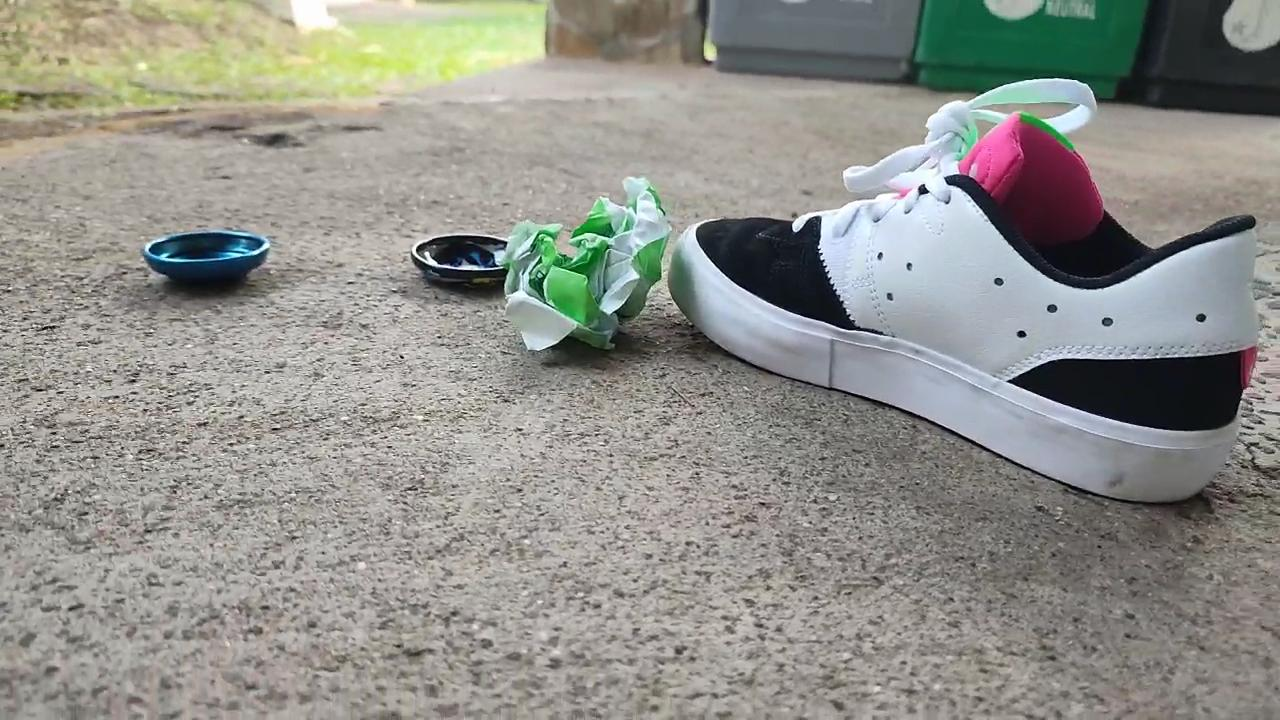Paper: (487, 149, 672, 366)
